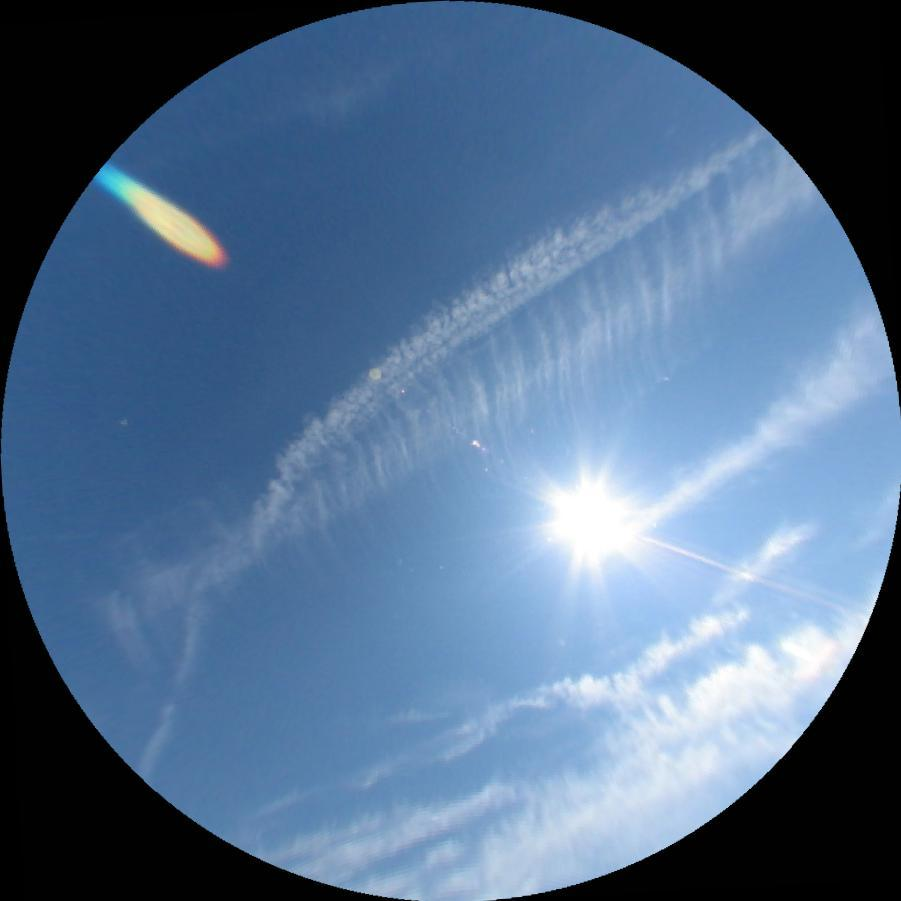contrail veryold: (43, 35, 773, 784), (65, 134, 867, 703), (604, 303, 901, 570)
parasite: (625, 524, 869, 628)
sun: (551, 481, 632, 564)
